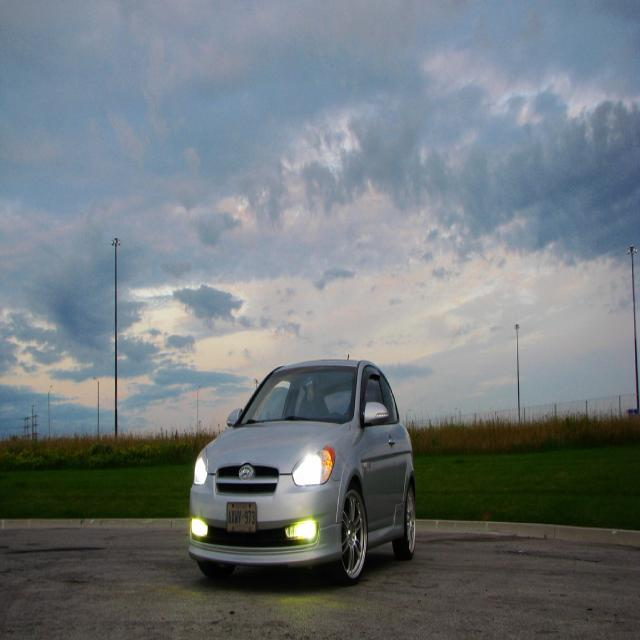car: (191, 355, 413, 583)
